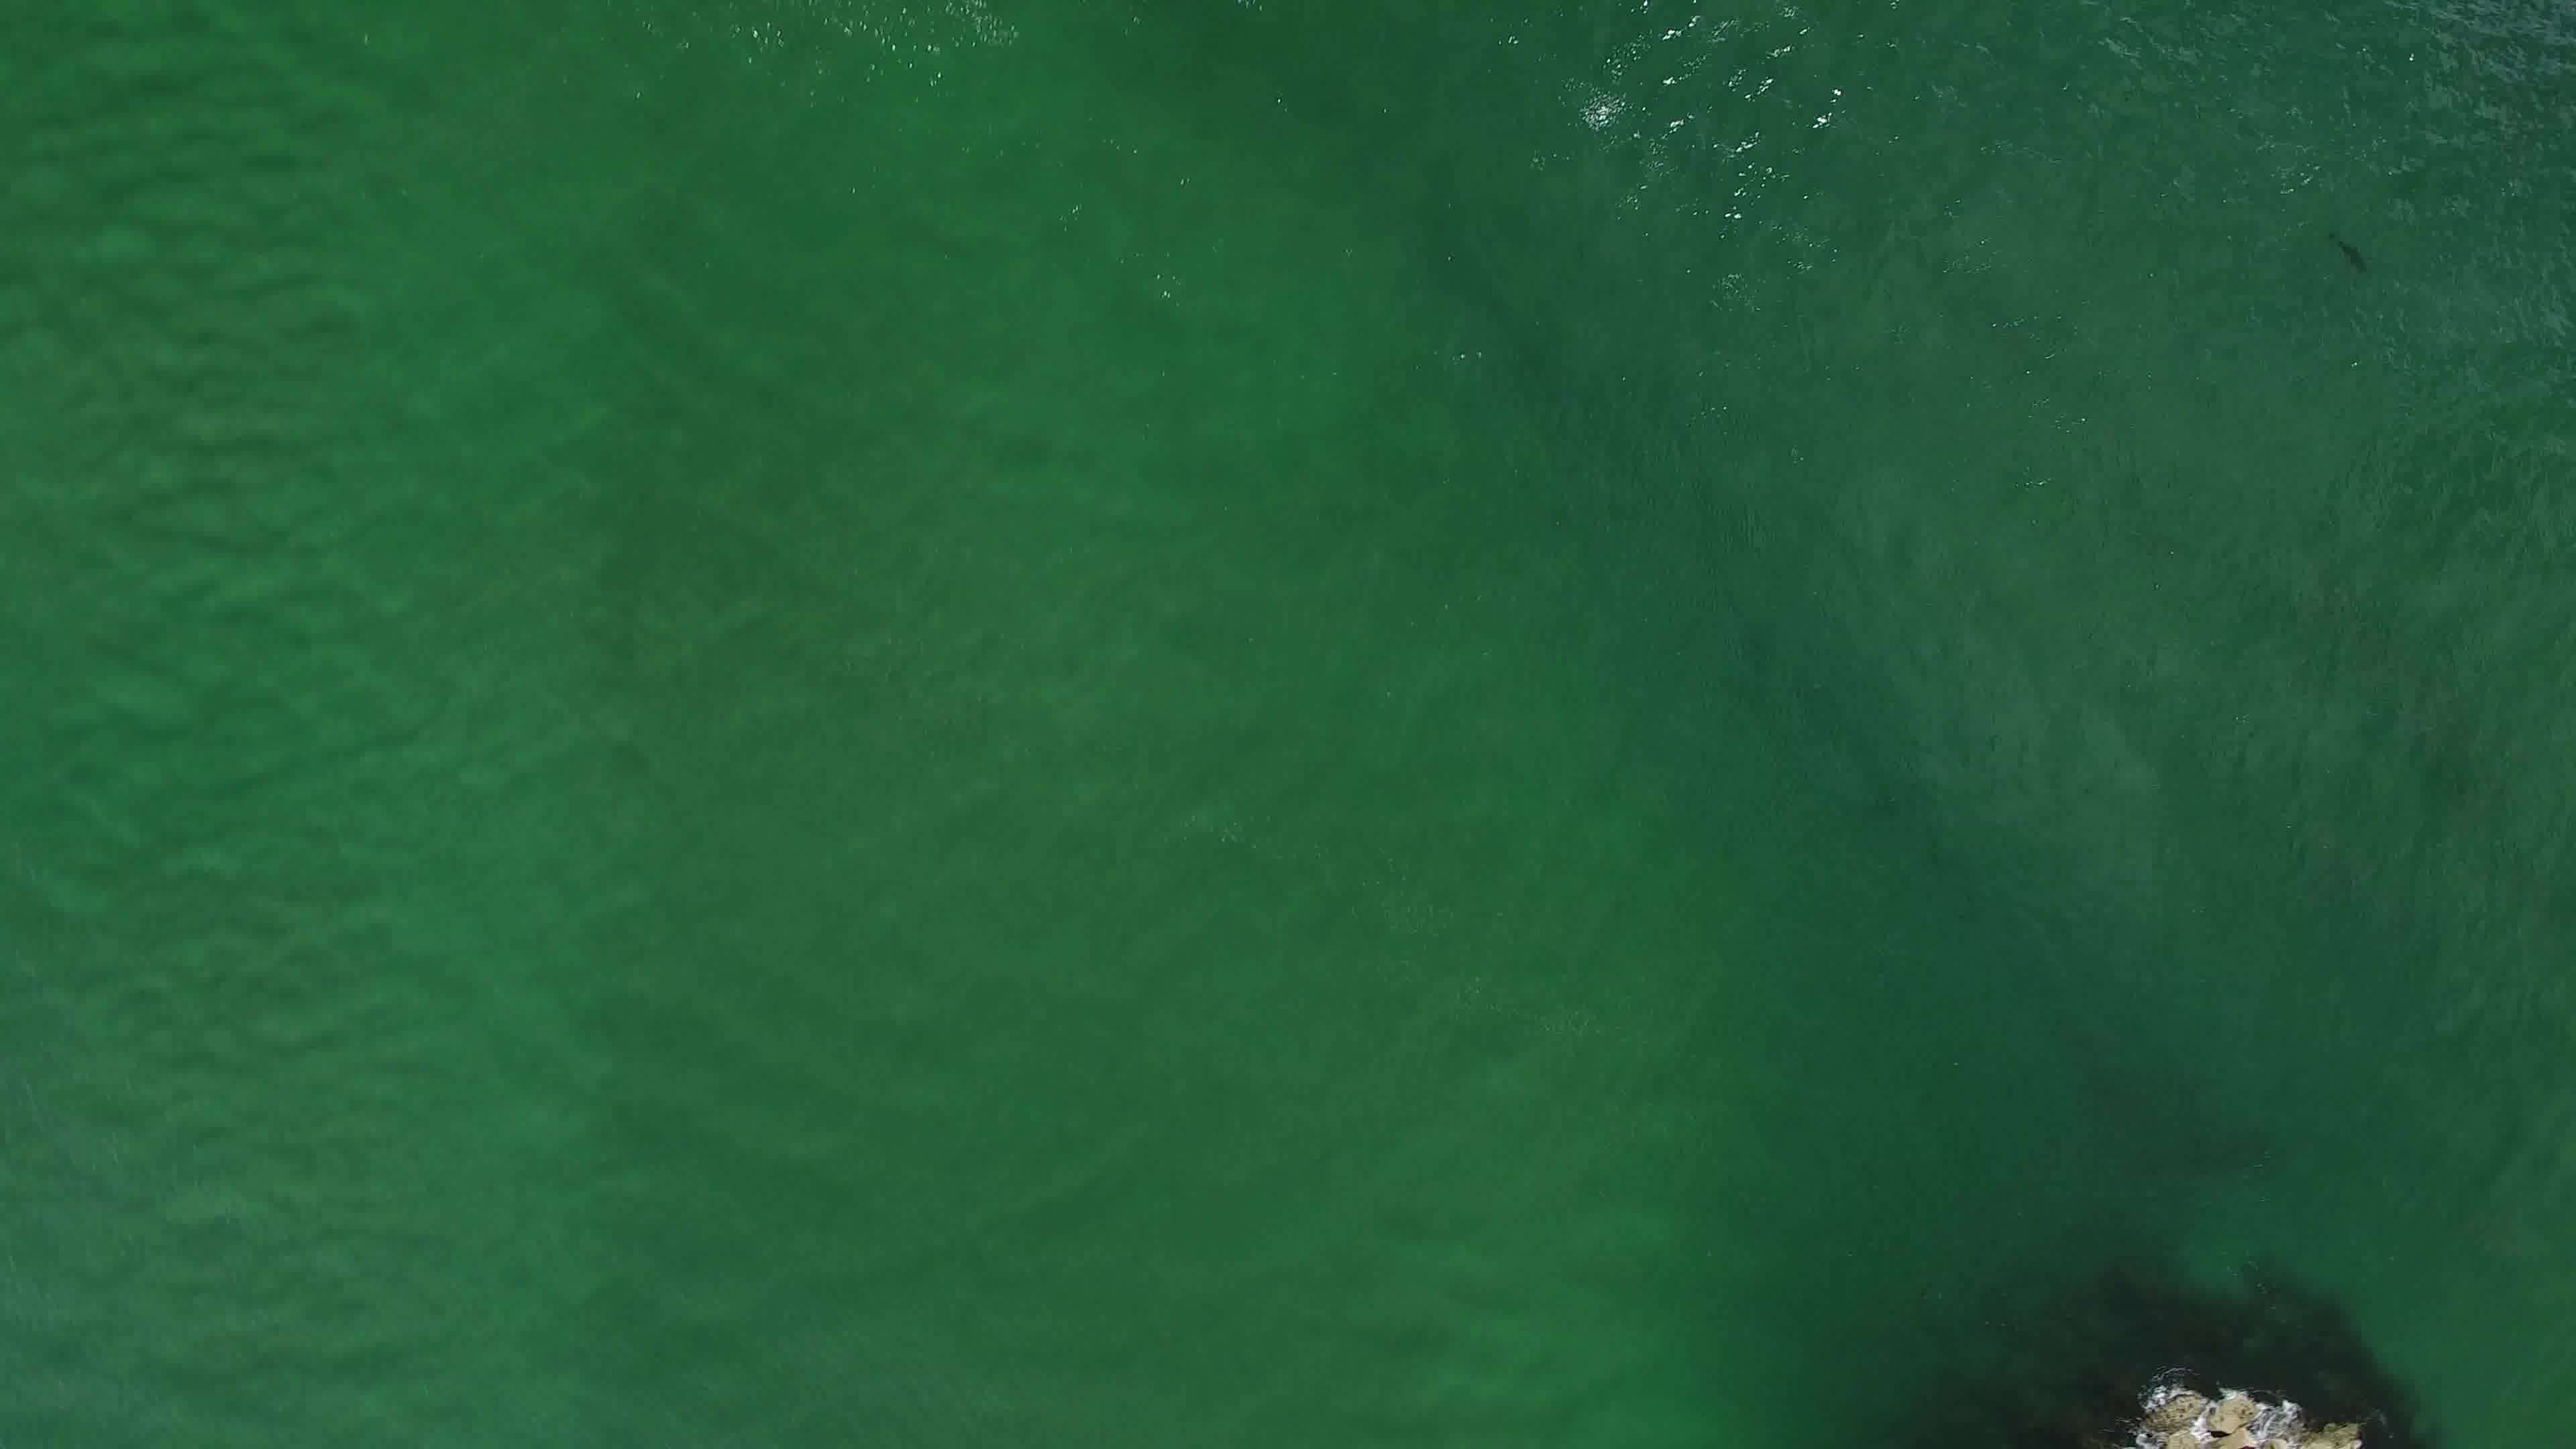dolphin: (2307, 205, 2392, 295)
